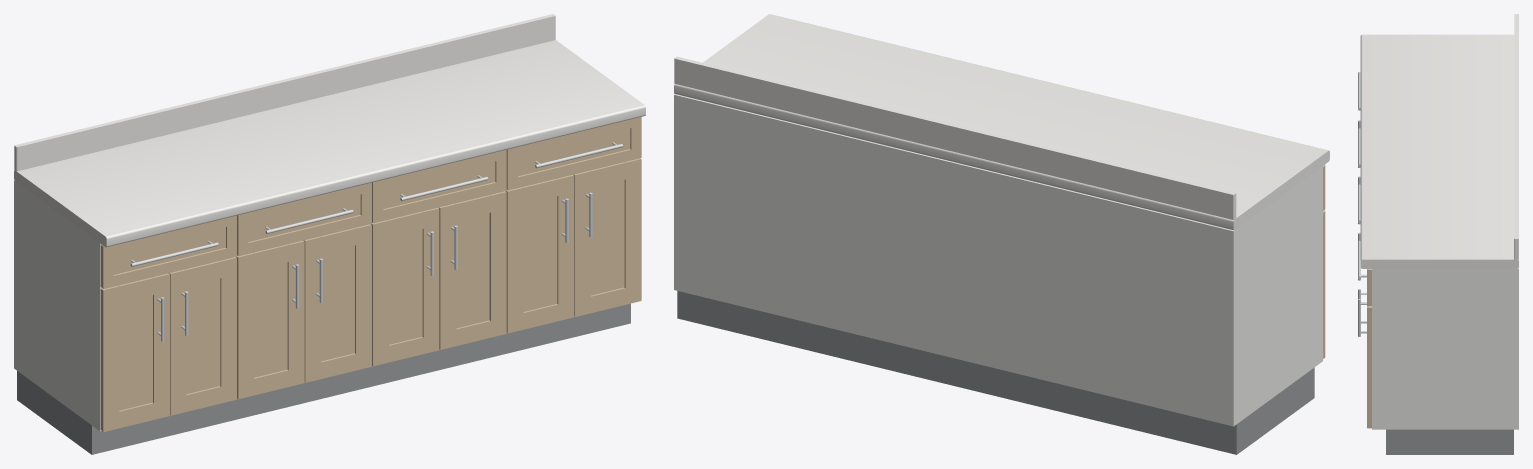
3 renders of one model, left to right at view 1: azimuth 30°, elevation 25°; view 2: azimuth 150°, elevation 25°; view 3: azimuth 270°, elevation 25°, orthographic. The views are drawn at different scales.
Parts seen in each view (by area): view 1: Tủ bếp dưới Dài=2100; Sâu=580; view 2: Tủ bếp dưới Dài=2100; Sâu=580; view 3: Tủ bếp dưới Dài=2100; Sâu=580.
Boxes of the visible parts, bbox=[...] form: Tủ bếp dưới Dài=2100; Sâu=580: bbox=[14, 14, 645, 454]; Tủ bếp dưới Dài=2100; Sâu=580: bbox=[674, 14, 1329, 454]; Tủ bếp dưới Dài=2100; Sâu=580: bbox=[1358, 14, 1518, 454].
Bounding box in the file's own units: 2.1 × 0.94 × 0.635.
